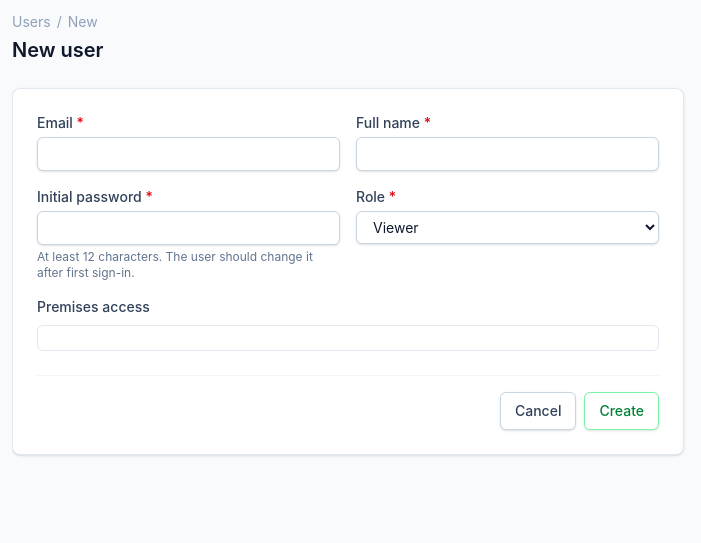
UserFormPage — creating › shows the server's field errors on failure
Step 1. Click the button "Create" → (622, 411), box [584,392,659,430]
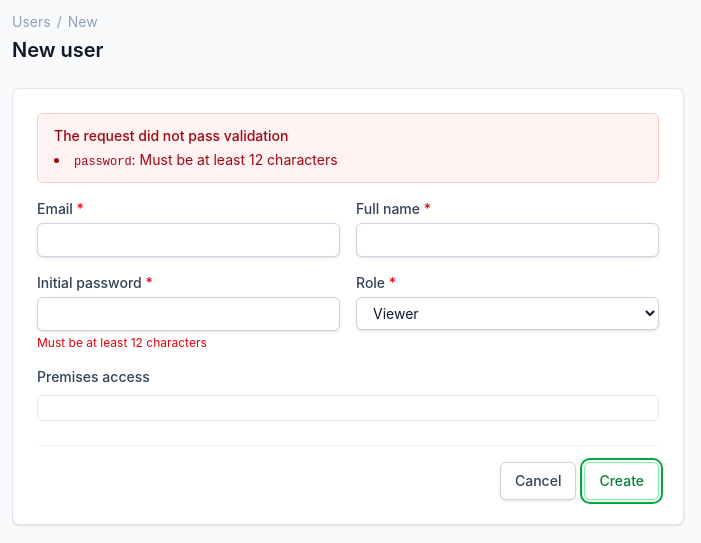
Expected: the text "Must be at least 12 characters" is shown, [37,335,207,350]
